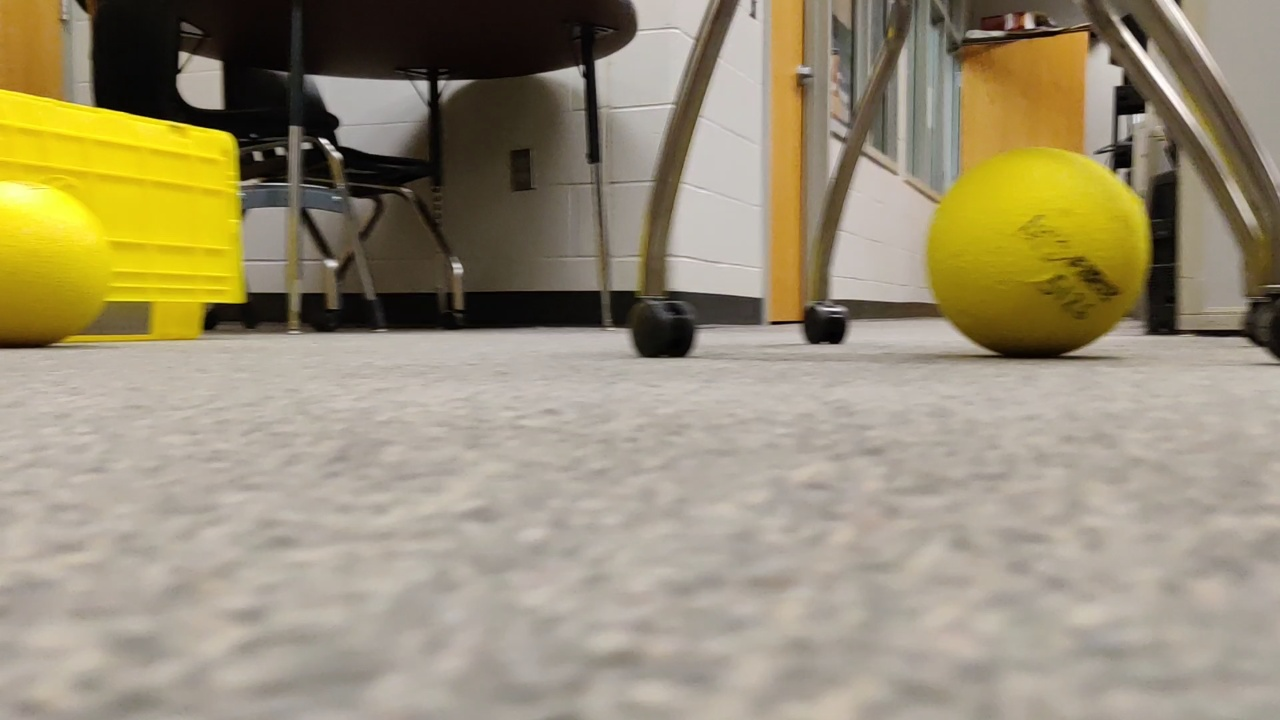Ball: (925, 146, 1149, 361), (1, 179, 118, 343)
